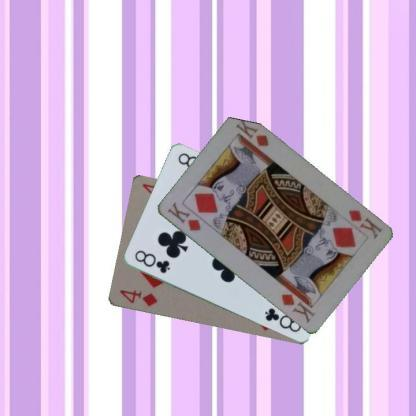4d: (117, 287, 159, 308)
8c: (132, 247, 172, 275)
Kd: (338, 206, 384, 240), (164, 199, 202, 233)
